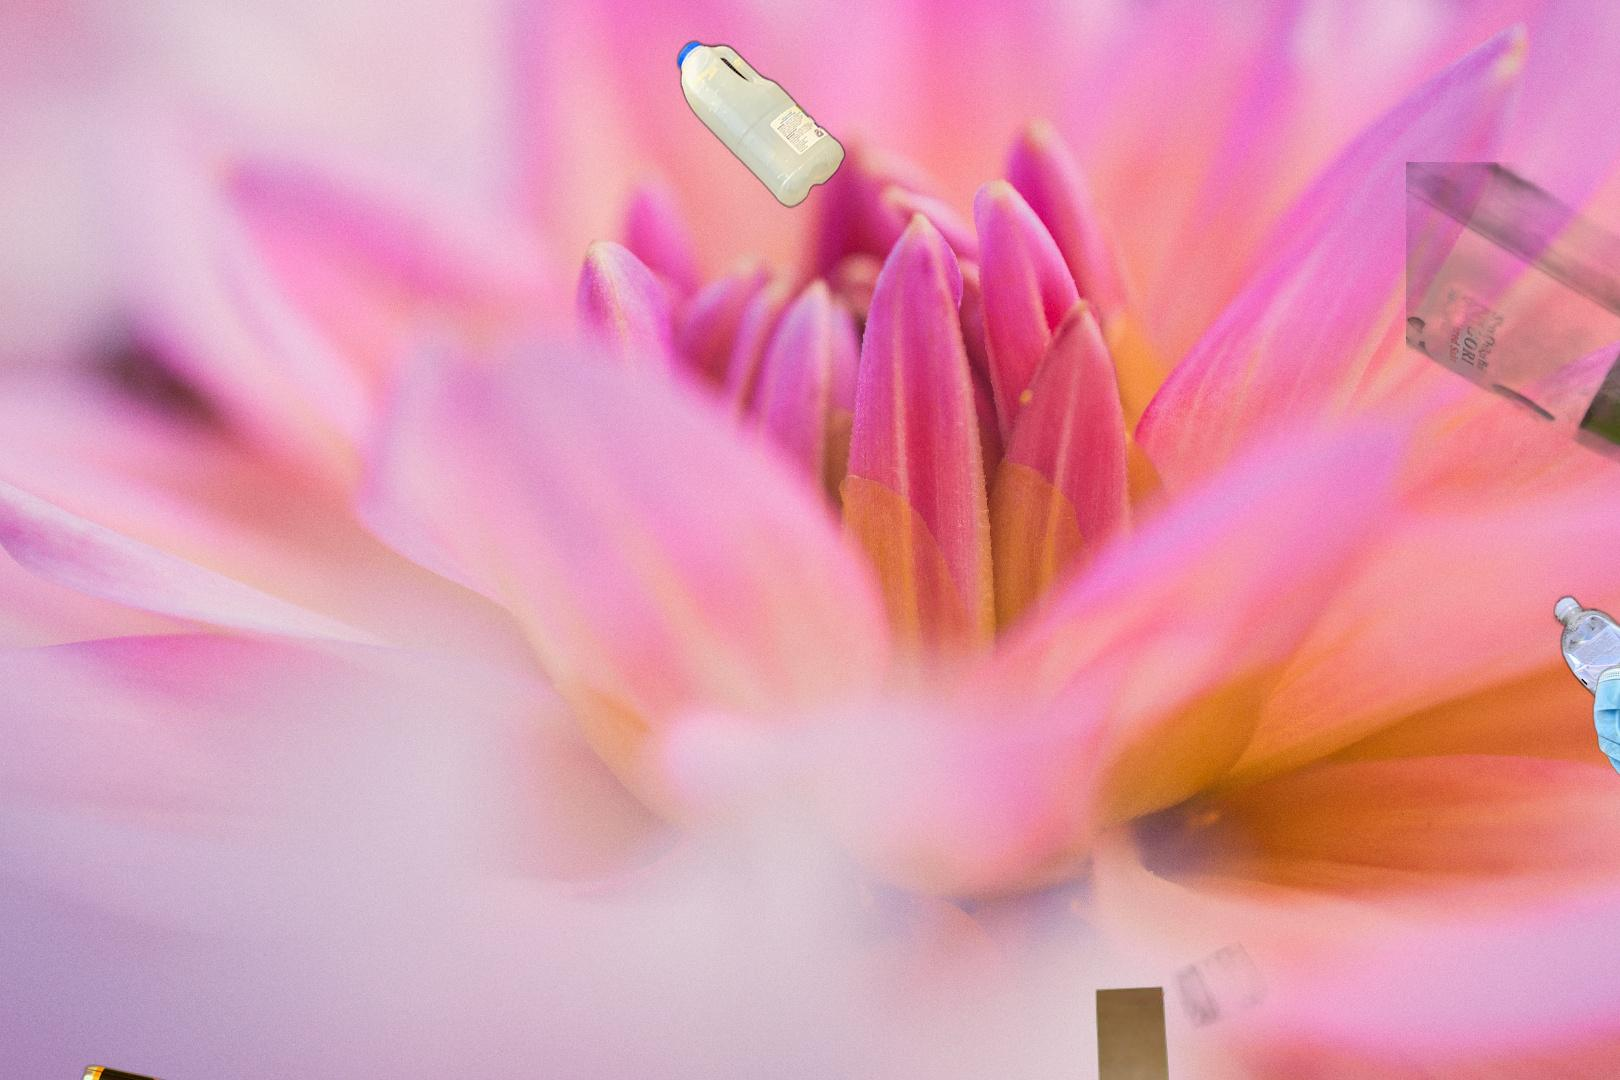battery: (23, 1062, 347, 1080)
glass: (1405, 162, 1620, 546)
paper-bag: (1093, 939, 1270, 1080)
plastic-bottles: (401, 29, 849, 588), (1549, 591, 1620, 736)
trash: (1590, 648, 1620, 791)
